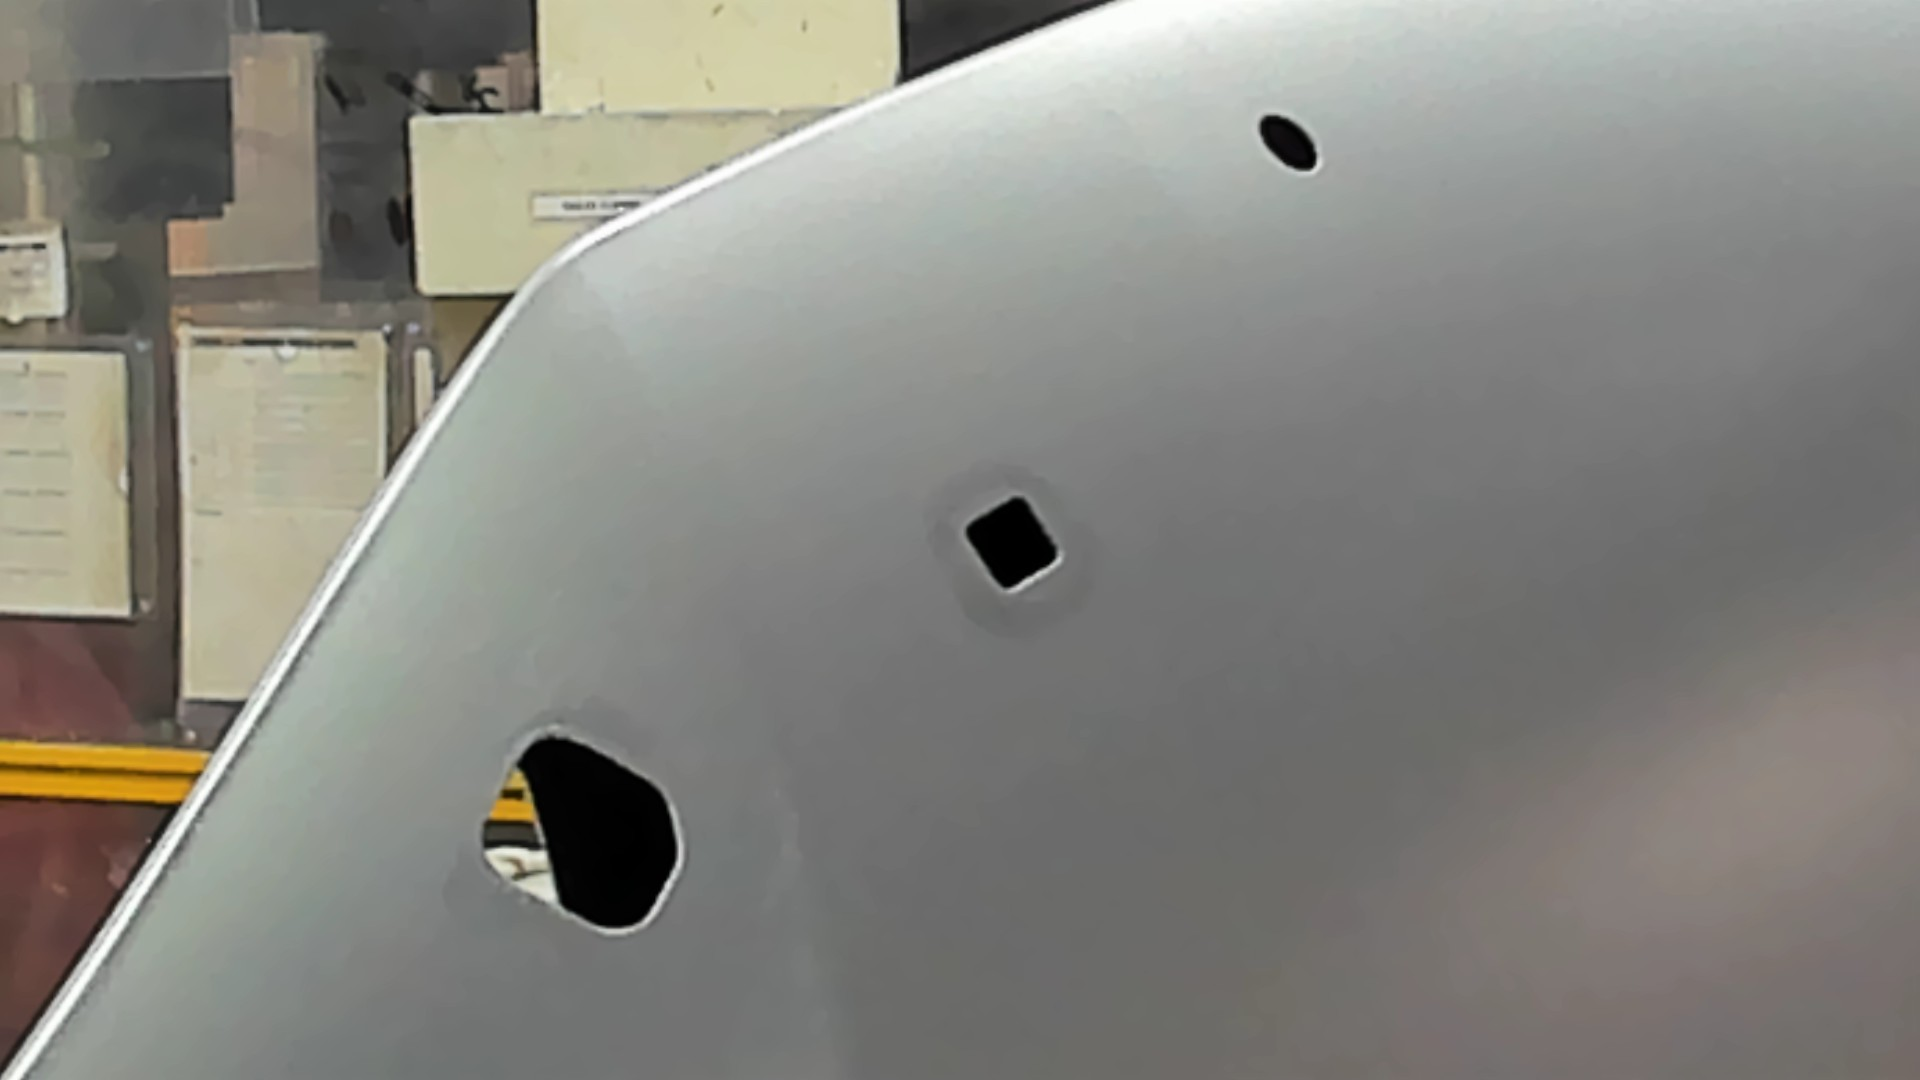chico: (1255, 109, 1325, 178)
grande: (473, 720, 694, 945)
mediano: (959, 488, 1065, 604)
